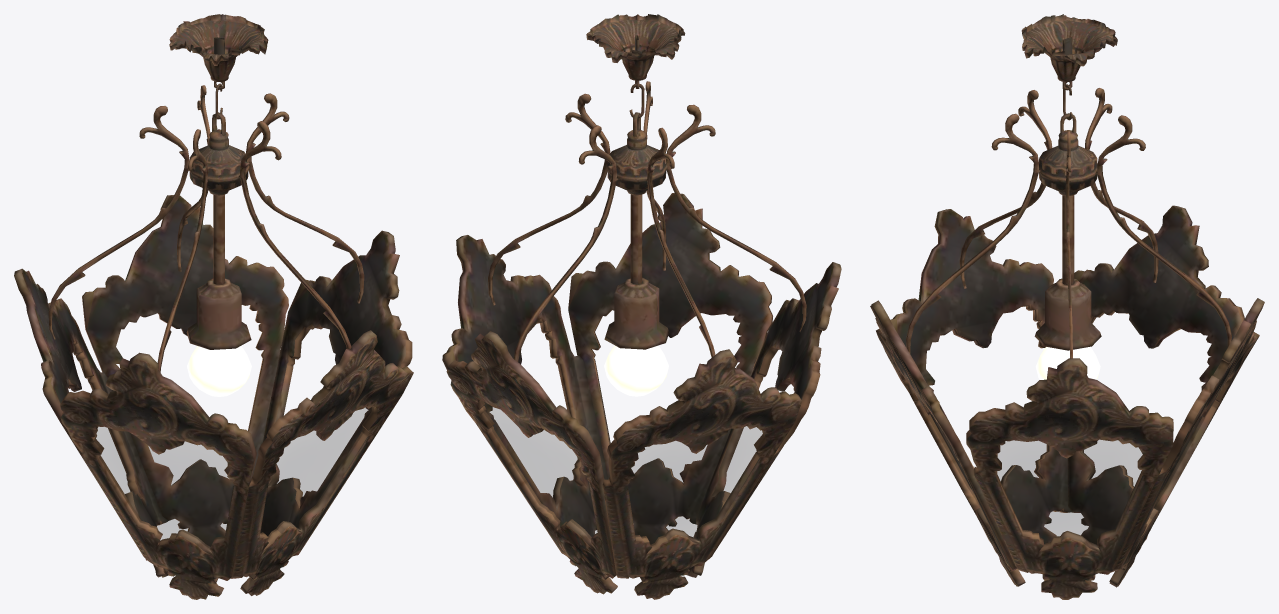
Rendered from lantern_chandelier_01.glb.
The picture shows the model from 3 angles, left to right: view 1: azimuth 30°, elevation 25°; view 2: azimuth 150°, elevation 25°; view 3: azimuth 270°, elevation 25°; orthographic projection.
Parts seen in each view (by area): view 1: lantern_chandelier_01; view 2: lantern_chandelier_01; view 3: lantern_chandelier_01.
Part boxes in pixels (left/top/right/bottom): lantern_chandelier_01: left=14, top=14, right=413, bottom=599; lantern_chandelier_01: left=442, top=14, right=841, bottom=599; lantern_chandelier_01: left=870, top=14, right=1264, bottom=599.
Bounding box in the file's own units: 0.5792 × 0.8776 × 0.5746.
3 materials, 2 textured.
